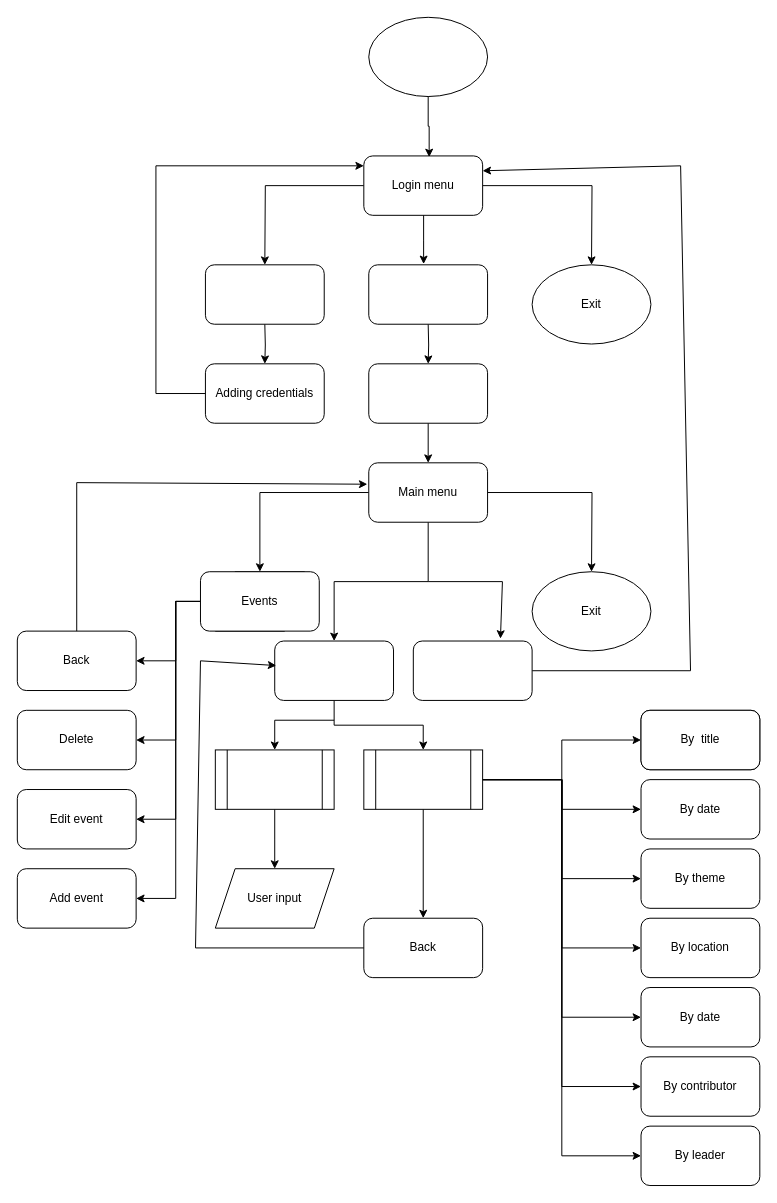
This 777x1203 diagram has some shape labels left out. Each missing label, with the centre of its shape:
"Log in" belongs at (x=428, y=294).
"Reports" belongs at (x=334, y=670).
"Reports by data" belongs at (x=423, y=779).
"Reports by keyword" belongs at (x=274, y=779).
"Sign out" belongs at (x=472, y=670).
"Sign up" belongs at (x=264, y=294).
"Start" belongs at (x=428, y=56).
"Using credentials" belongs at (x=428, y=393).
